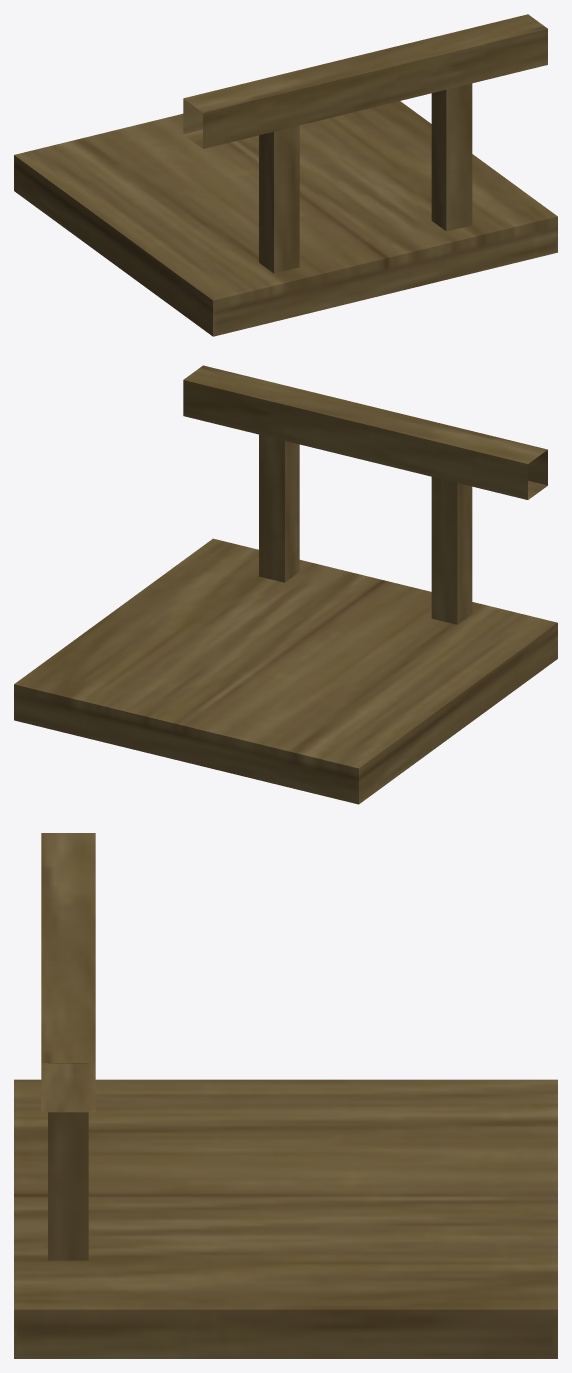
Rendered from sb_obj_outdoor041_Balcony01a.fbx.
3 views of the same model, one above another, from view 1: azimuth 30°, elevation 25°; view 2: azimuth 150°, elevation 25°; view 3: azimuth 270°, elevation 25° (orthographic). The views are drawn at different scales.
Parts seen in each view (by area): view 1: wood_edge; view 2: wood_edge; view 3: wood_edge.
Boxes of the visible parts, x1,y1,x2,y2 form: wood_edge: (14,14,557,336); wood_edge: (14,365,557,804); wood_edge: (14,833,557,1358).
Bounding box in the file's own units: 1 × 0.6 × 1.
